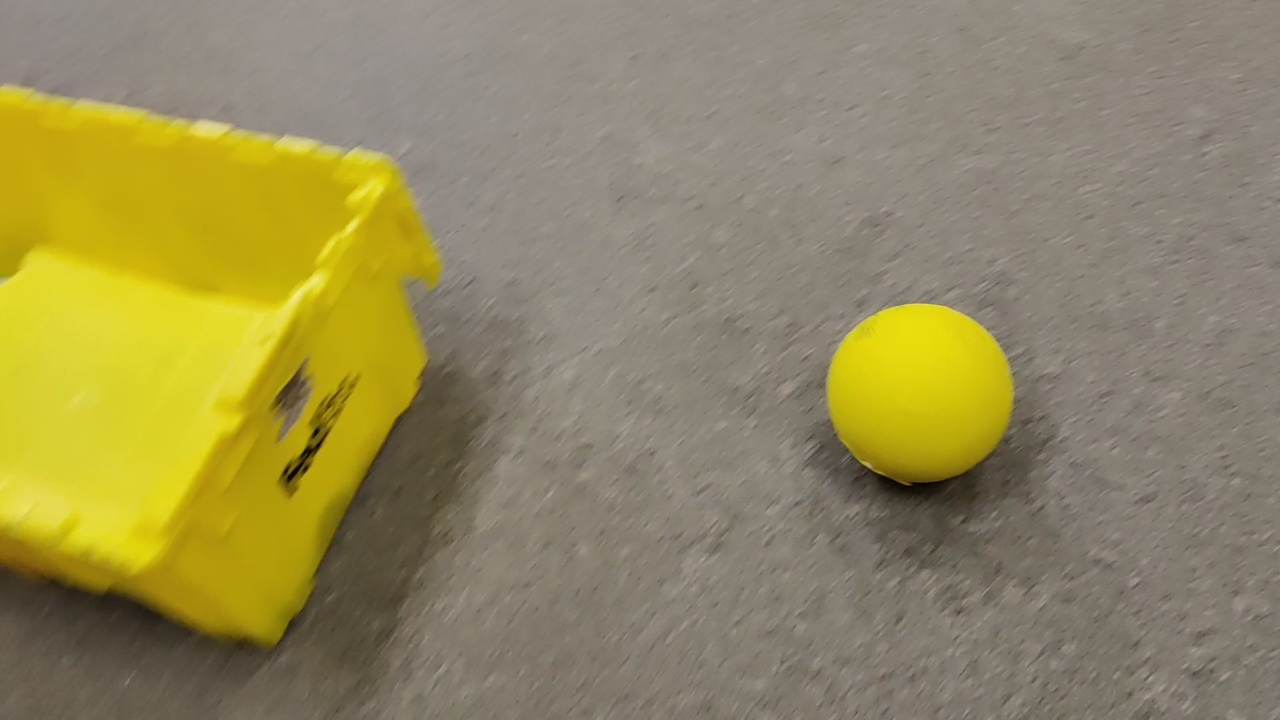Ball: (825, 304, 1019, 483)
